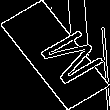M_SW: (15, 22, 95, 88)
